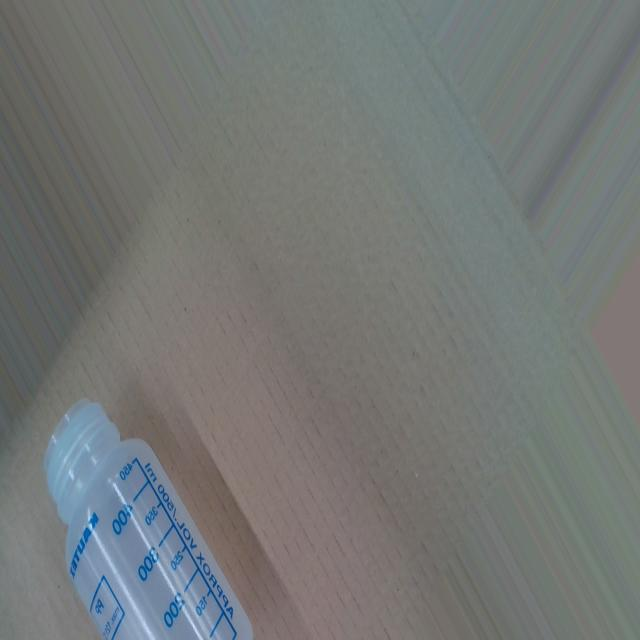bottle: (46, 390, 253, 640)
